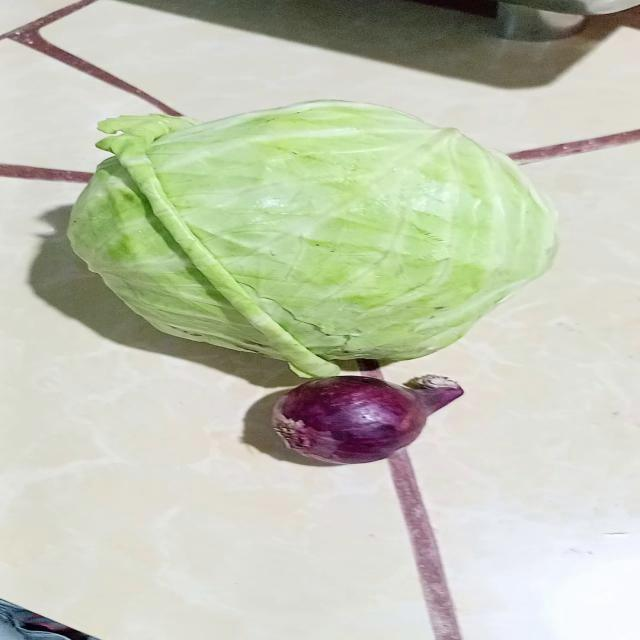cabbage: (67, 101, 560, 376)
onion: (270, 375, 463, 473)
